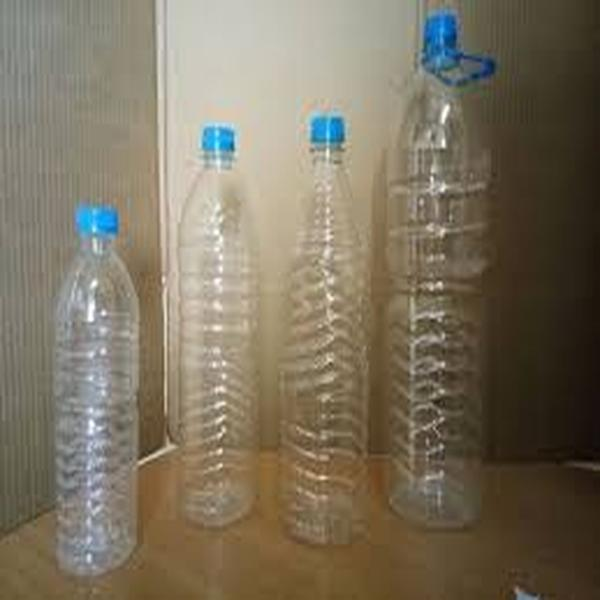tutuma: (388, 6, 500, 542), (276, 80, 373, 565), (29, 191, 148, 580), (157, 108, 258, 535)
